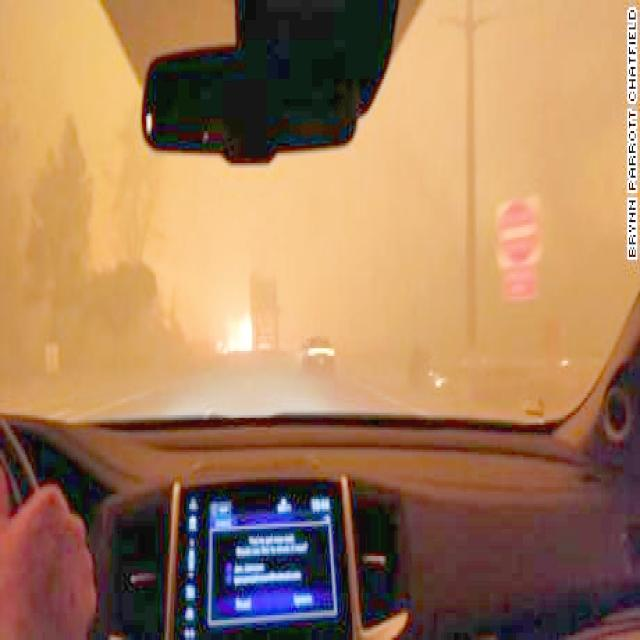api: (218, 308, 257, 362)
